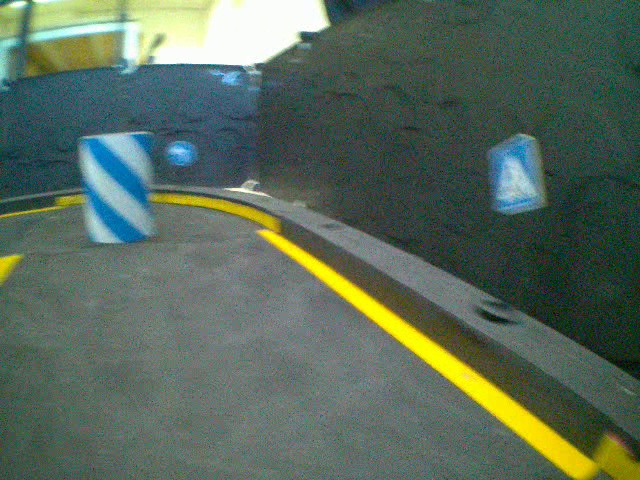bucket: (78, 129, 159, 243)
